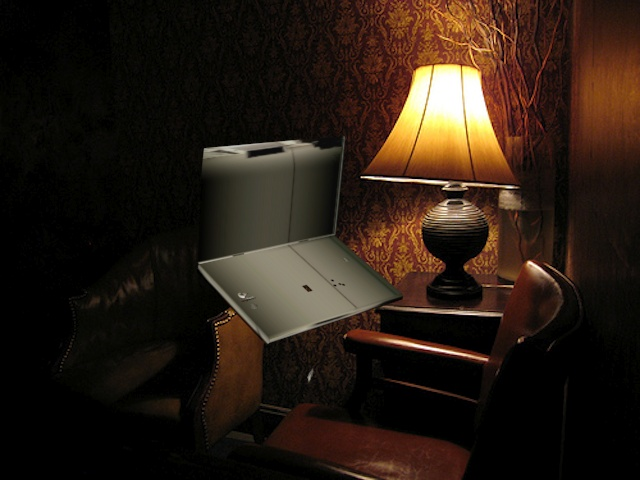laptop_computer: (193, 129, 416, 384)
